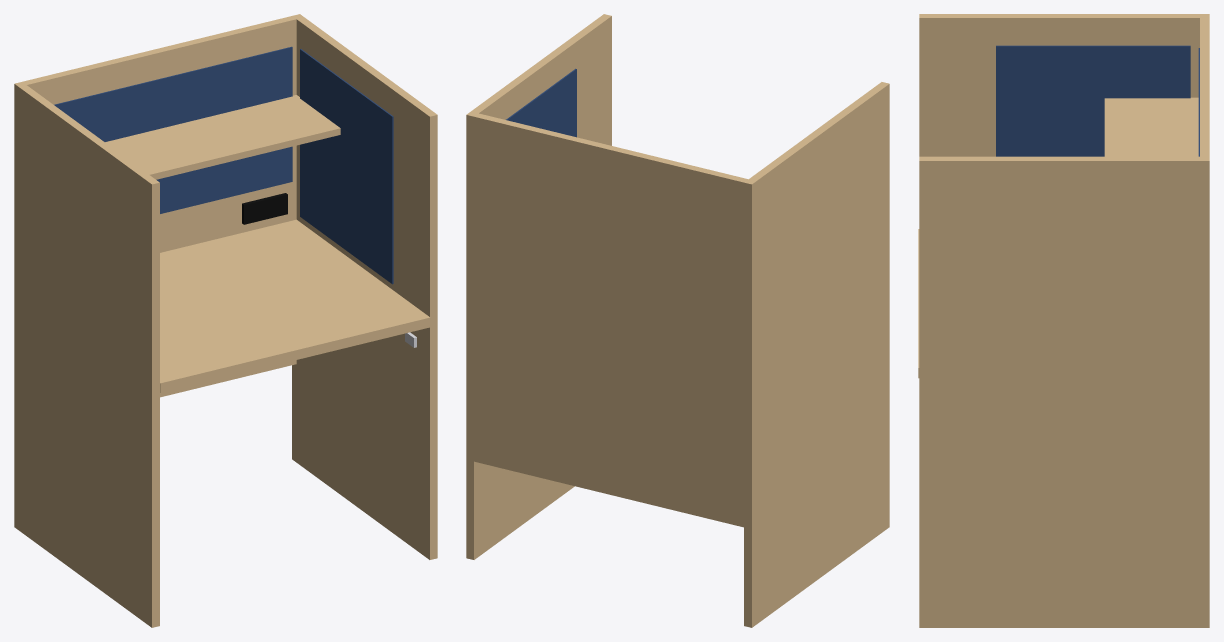
Rendered from 074_study_carrel.glb.
3 renders of one model, left to right at view 1: azimuth 30°, elevation 25°; view 2: azimuth 150°, elevation 25°; view 3: azimuth 270°, elevation 25°, orthographic. The views are drawn at different scales.
Parts seen in each view (by area): view 1: 000_side_panel, 004_side_panel, 010_work_surface, 009_back_tackboard, 005_side_tackboard, 008_back_panel, 012_upper_shelf, 011_work_surface_edge, 014_power_usb_module; view 2: 008_back_panel, 000_side_panel, 004_side_panel, 005_side_tackboard; view 3: 004_side_panel, 000_side_panel, 001_side_tackboard, 012_upper_shelf, 008_back_panel.
Part boxes in pixels (<box>): 000_side_panel: <box>14,82,159,627</box>; 004_side_panel: <box>292,14,437,559</box>; 010_work_surface: <box>160,219,429,382</box>; 009_back_tackboard: <box>54,46,292,213</box>; 005_side_tackboard: <box>300,49,393,284</box>; 008_back_panel: <box>22,16,296,397</box>; 012_upper_shelf: <box>105,95,340,179</box>; 011_work_surface_edge: <box>160,317,430,392</box>; 014_power_usb_module: <box>242,193,287,224</box>; 008_back_panel: <box>474,113,747,527</box>; 000_side_panel: <box>744,82,889,627</box>; 004_side_panel: <box>466,14,611,559</box>; 005_side_tackboard: <box>506,68,576,137</box>; 004_side_panel: <box>919,156,1209,627</box>; 000_side_panel: <box>919,14,1209,156</box>; 001_side_tackboard: <box>996,45,1190,156</box>; 012_upper_shelf: <box>1104,97,1198,156</box>; 008_back_panel: <box>1200,18,1209,156</box>.
Bounding box in the file's own units: 0.91 × 1.35 × 0.763.
